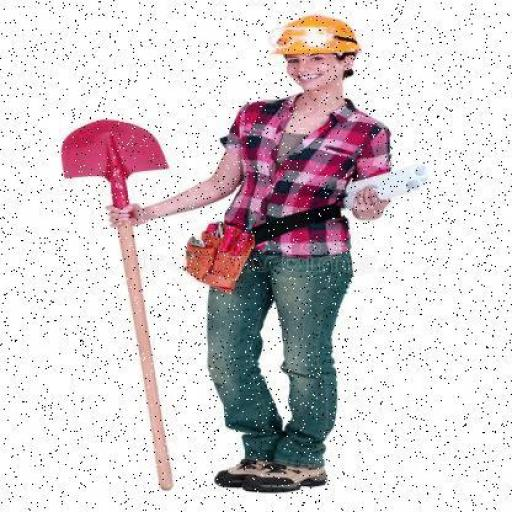person: (166, 16, 422, 494)
safety_shoe: (246, 455, 348, 495), (212, 456, 274, 484)
